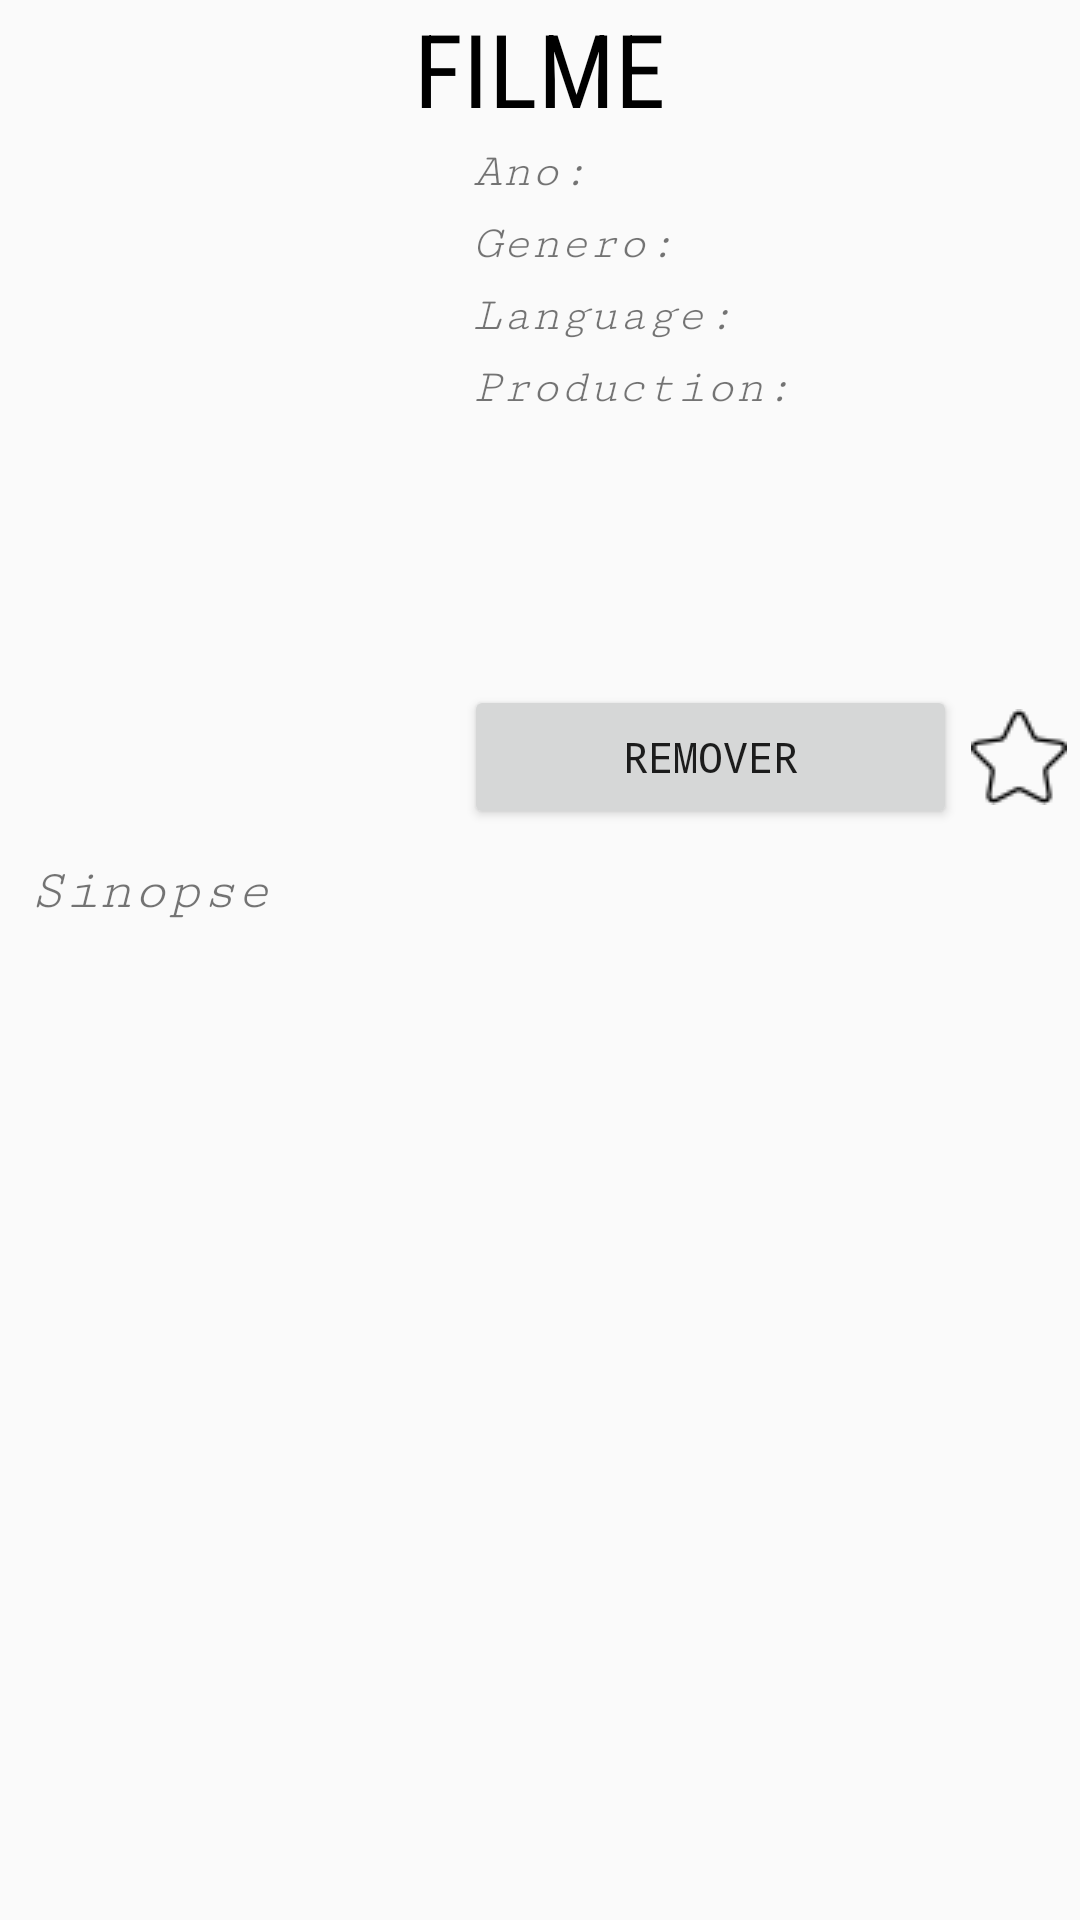

Named icons in this screenshot (1080w x 1920h) and their bounding boxes, (x1, y1, x2, y2):
star: (971, 709, 1067, 805)
